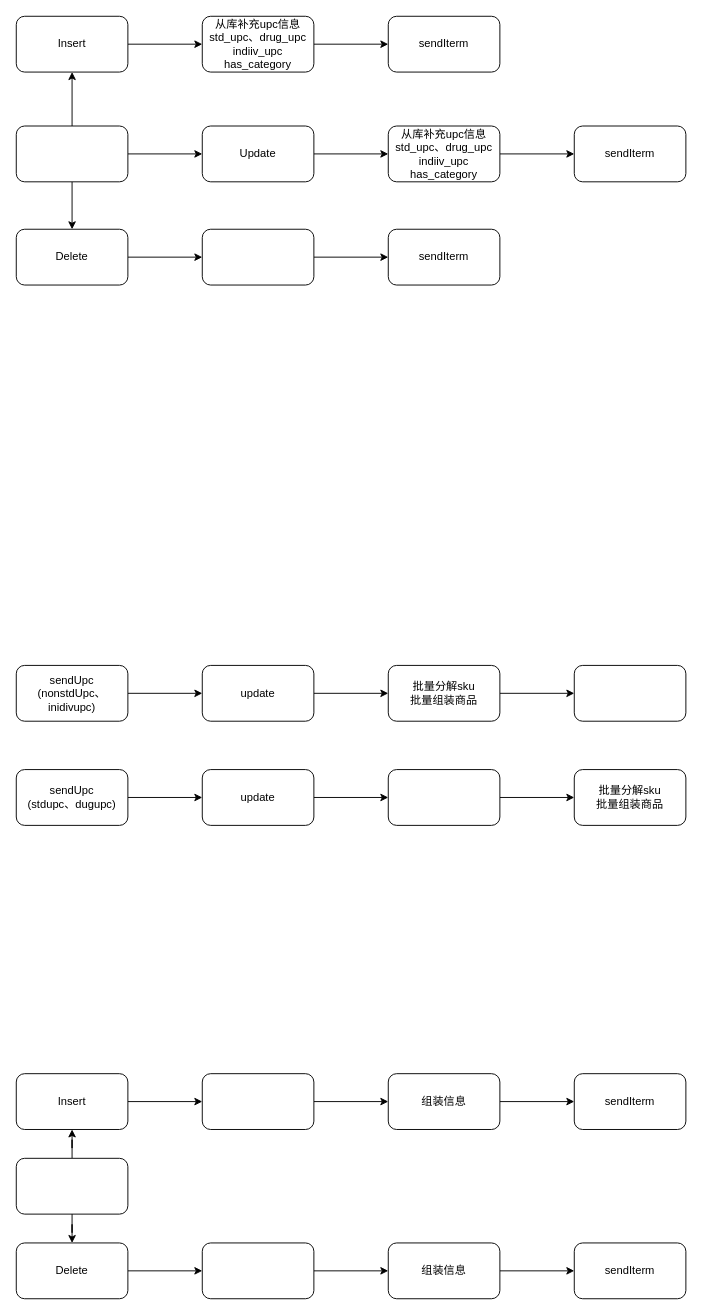
The diagram is 702 pixels wide and 1315 high, and some of its shapes have lost their labels. Here are the shapes that lost their labels. From the top down, the centre of each, then its label:
point 71,153: sendSku
point 257,256: 从库补充upc信息 std_upc、drug_upc indiiv_upc has_category 但标注sku删除
point 629,692: 批量推送sendIterm
point 443,797: redisList
point 257,1101: 获取sku， hascategoty=1
point 71,1185: sendCategory
point 257,1270: 获取sku 获取catergory(除本变更) has_category=0/1
